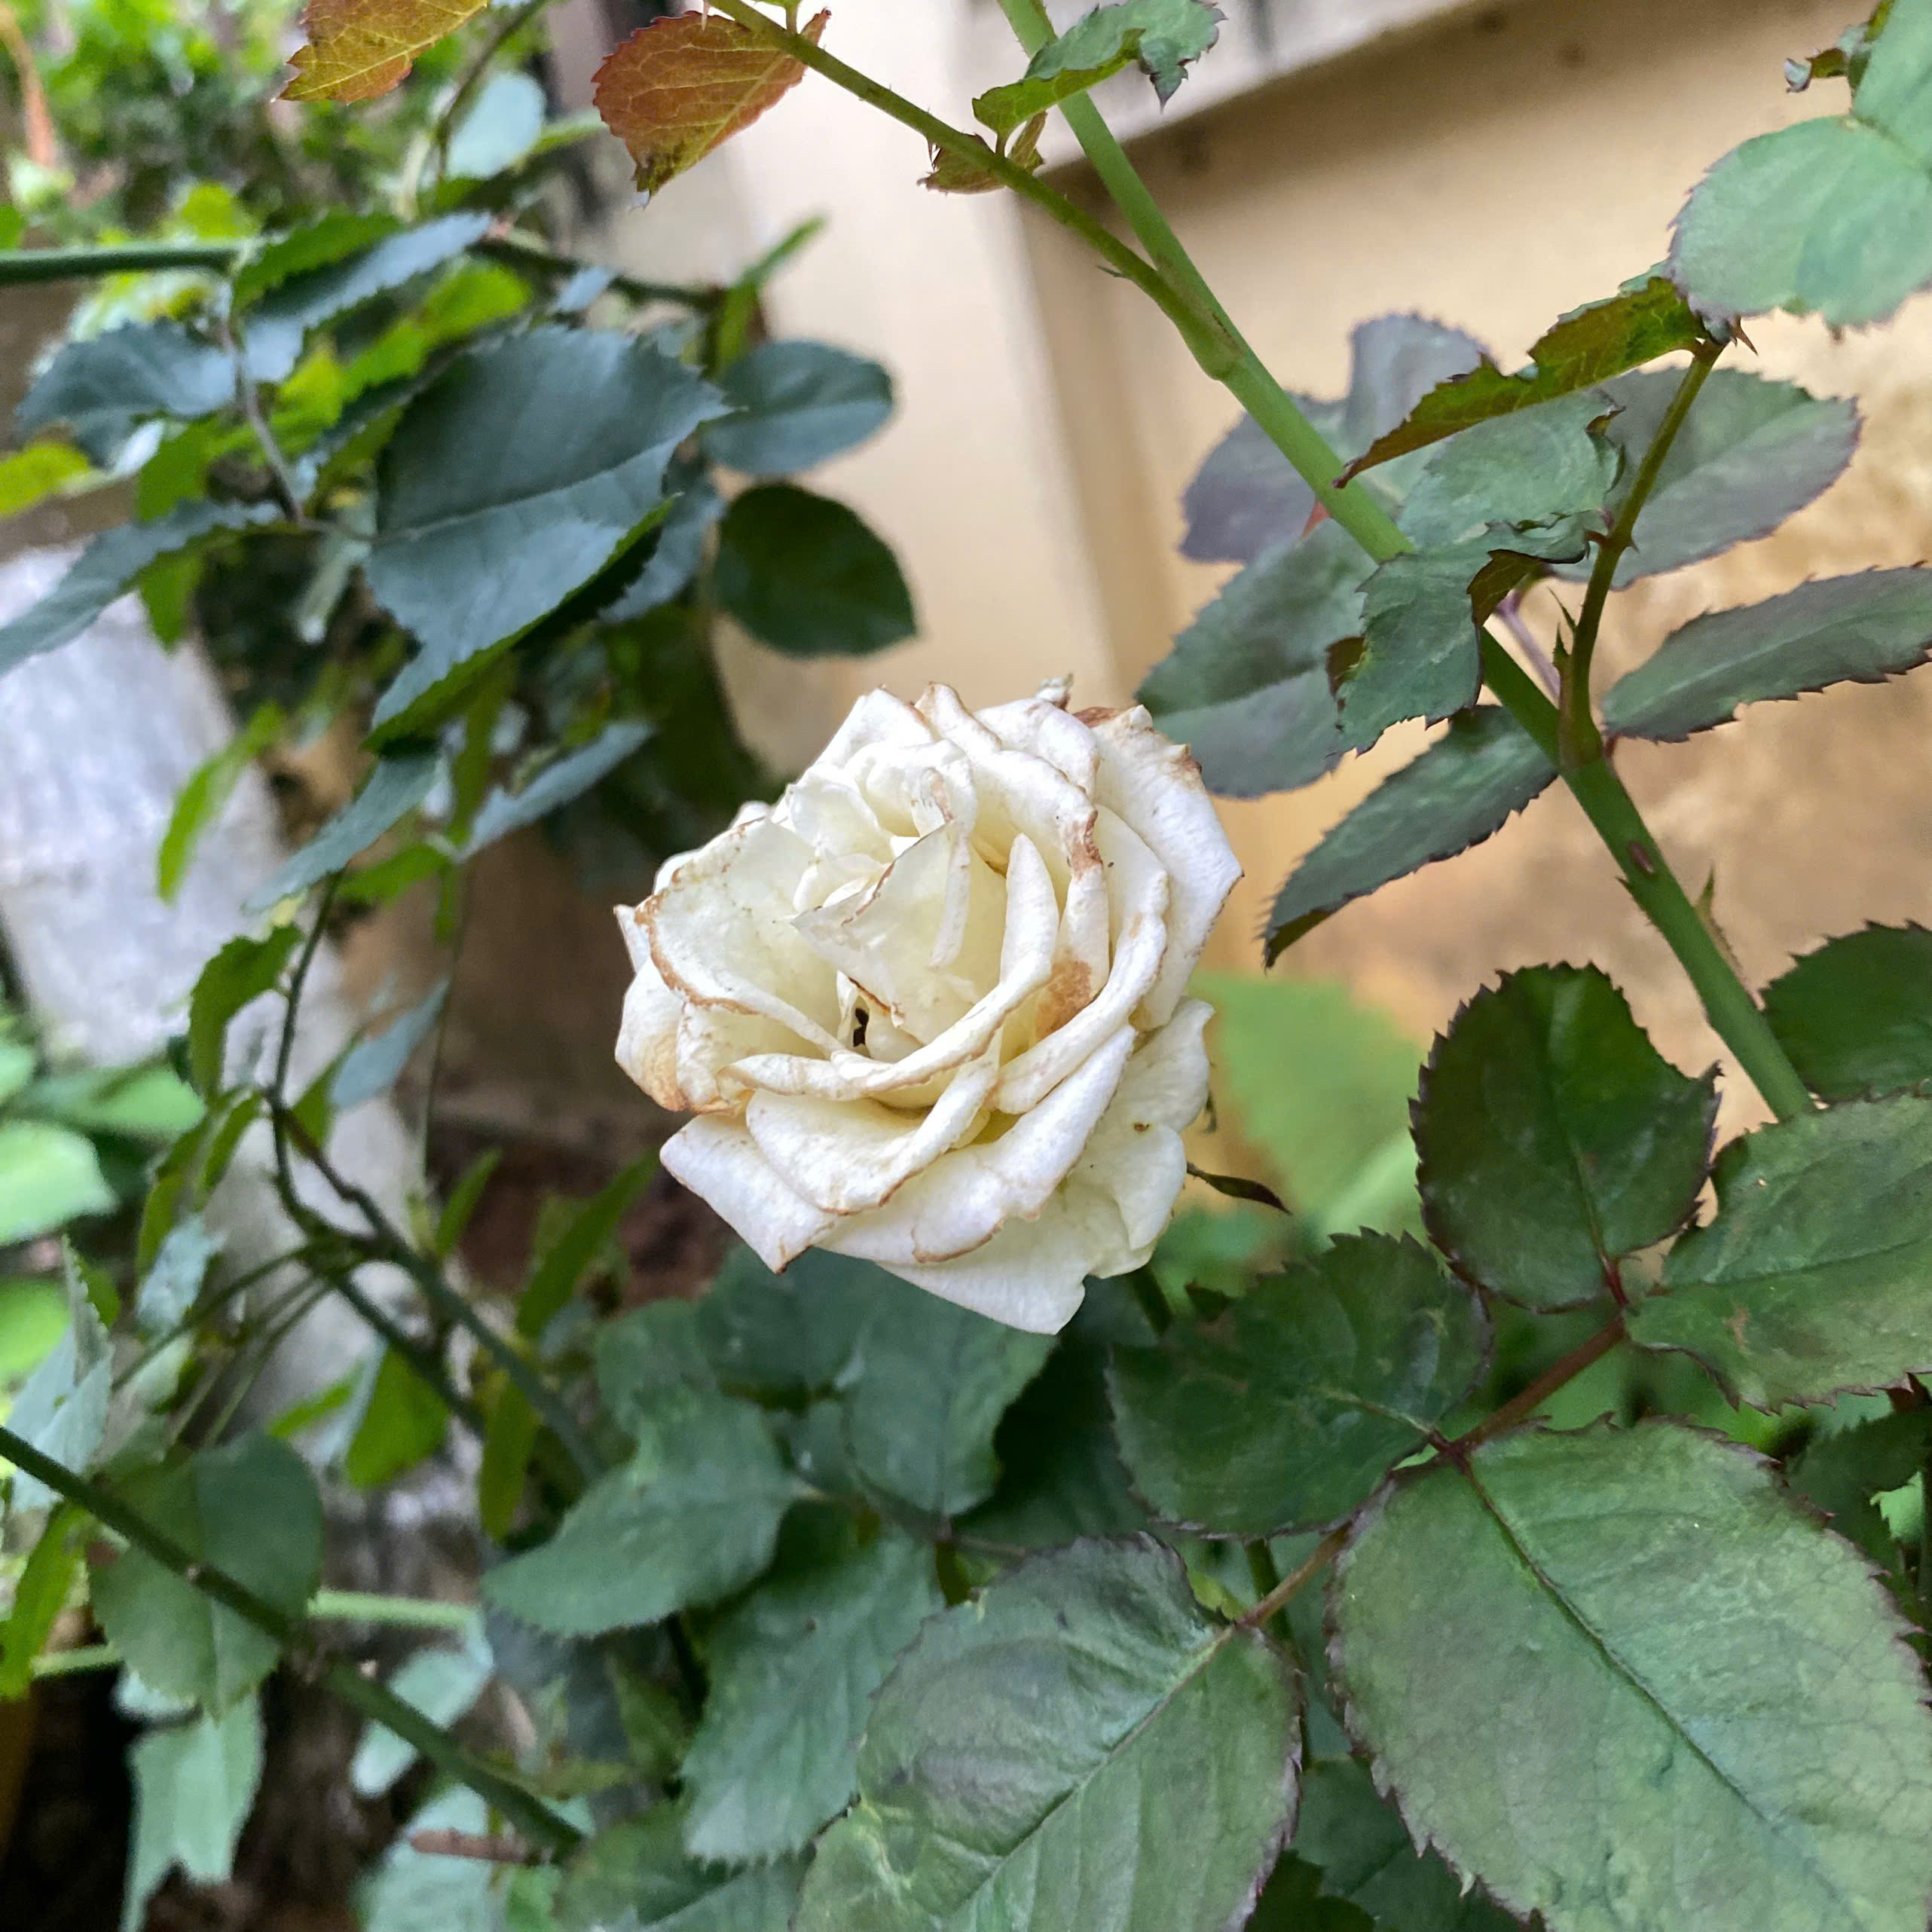hoa_thuoc_duoc: (249, 324, 1890, 1932)
